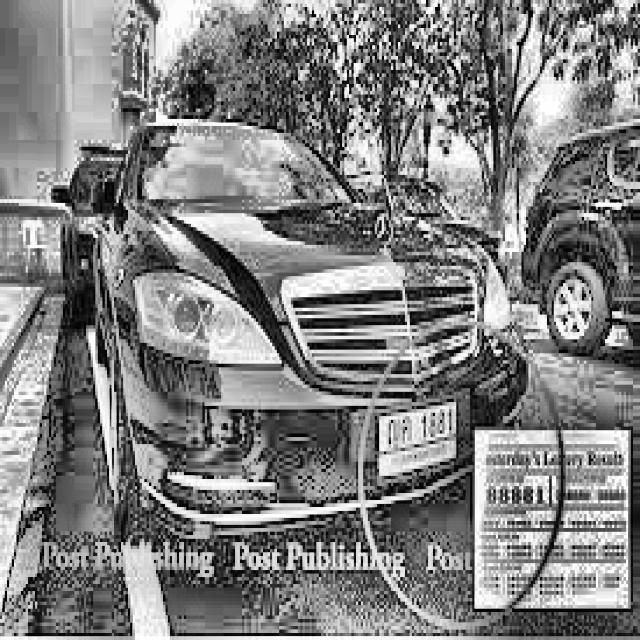license-plate: (375, 399, 469, 477)
